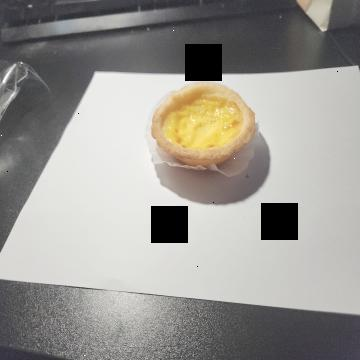EggTart: (150, 81, 254, 167)
